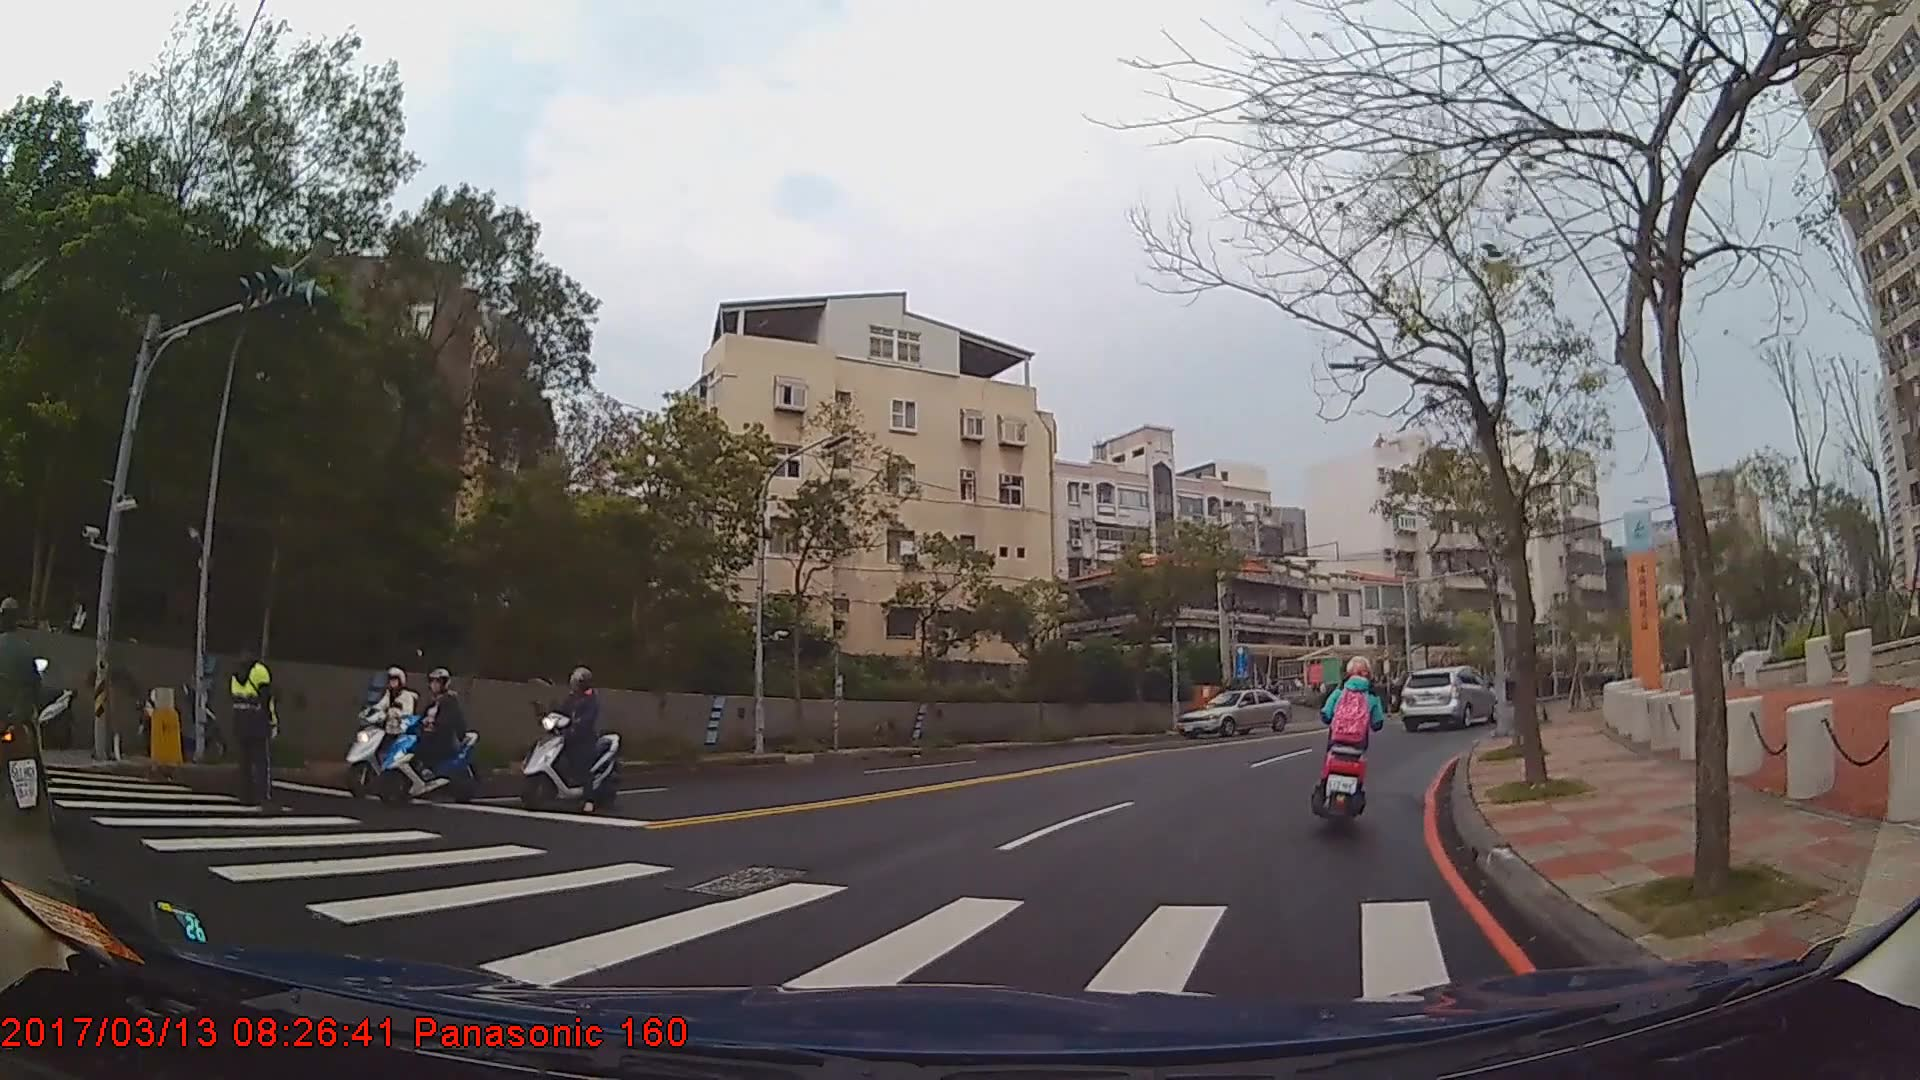pedestrian: (224, 633, 283, 805)
rider: (516, 669, 623, 814), (1, 598, 51, 826), (1314, 657, 1383, 820), (388, 667, 474, 800), (345, 664, 432, 791)
vehicle: (1400, 664, 1496, 729), (1174, 687, 1290, 740)
